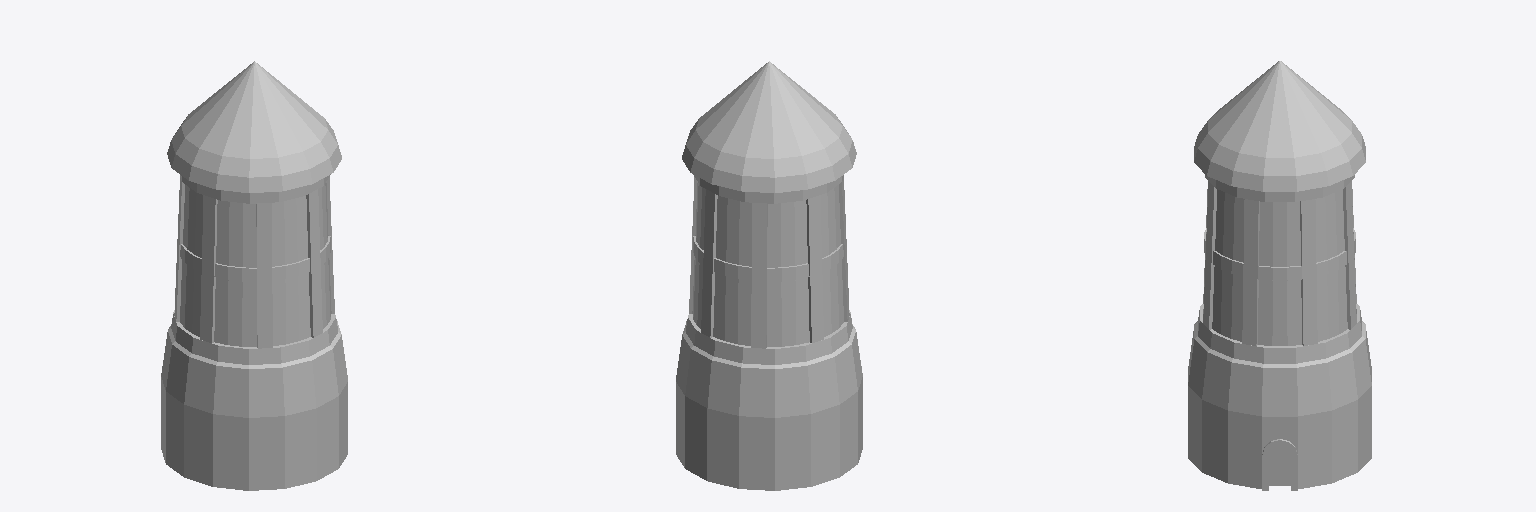
File: Prop_Decorative_Windmill_Building_2.obj
The picture shows the model from 3 angles: view 1: azimuth 30°, elevation 25°; view 2: azimuth 150°, elevation 25°; view 3: azimuth 270°, elevation 25°; orthographic projection.
Parts seen in each view (by area): view 1: Base, Red, Wall, Wood_Brace, Wood_Band, object1; view 2: Base, Red, Wall, Wood_Brace, Wood_Band, object1; view 3: Base, Red, Wall, Wood_Brace, Wood_Band, object1, Doorframe, Entrance.
Part boxes in pixels (left/top/right/bottom): Base: left=161, top=321, right=347, bottom=490; Red: left=167, top=61, right=341, bottom=192; Wall: left=180, top=183, right=331, bottom=346; Wood_Brace: left=174, top=177, right=334, bottom=348; Wood_Band: left=171, top=174, right=337, bottom=364; object1: left=180, top=236, right=330, bottom=281; Base: left=676, top=321, right=862, bottom=490; Red: left=682, top=61, right=856, bottom=192; Wall: left=692, top=183, right=843, bottom=346; Wood_Brace: left=689, top=177, right=849, bottom=348; Wood_Band: left=686, top=174, right=852, bottom=364; object1: left=693, top=236, right=843, bottom=281; Base: left=1188, top=321, right=1371, bottom=488; Red: left=1194, top=61, right=1365, bottom=191; Wall: left=1203, top=189, right=1356, bottom=345; Wood_Brace: left=1203, top=181, right=1356, bottom=345; Wood_Band: left=1198, top=175, right=1361, bottom=363; object1: left=1204, top=228, right=1355, bottom=280; Doorframe: left=1262, top=439, right=1297, bottom=490; Entrance: left=1269, top=447, right=1290, bottom=485.
Bounding box in the file's own units: 3.25 × 7.49 × 3.2.